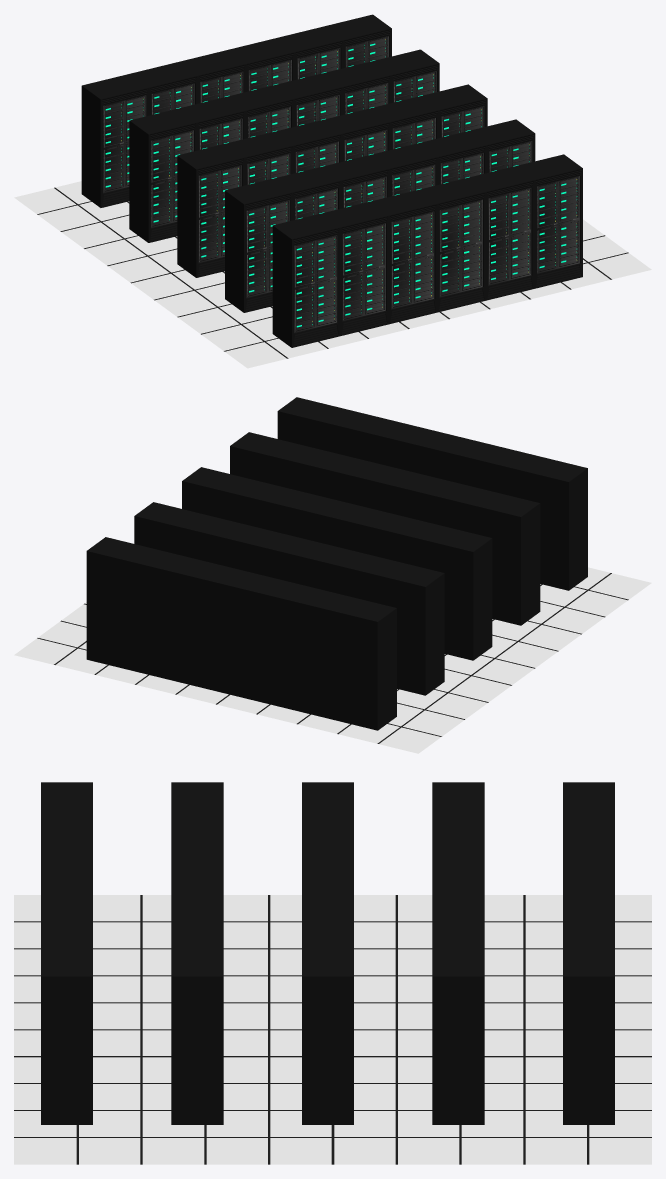
File: data_center_low-poly.glb
The picture shows the model from 3 angles, top to bottom: view 1: azimuth 30°, elevation 25°; view 2: azimuth 150°, elevation 25°; view 3: azimuth 270°, elevation 25°; orthographic projection. The views are drawn at different scales.
Visible parts, largest first — view 1: Cluster, Plane.001, Plane; view 2: Cluster, Plane.001, Plane; view 3: Plane.001, Cluster, Plane.
Part boxes in pixels (box(x1,y1,x2,y2)): Cluster: box(81, 14, 582, 347); Plane.001: box(14, 181, 651, 368); Plane: box(37, 187, 628, 358); Cluster: box(86, 397, 587, 730); Plane.001: box(14, 567, 651, 753); Plane: box(37, 573, 628, 743); Plane.001: box(14, 895, 651, 1164); Cluster: box(41, 782, 614, 1124); Plane: box(14, 895, 651, 1164).
Bounding box in the file's own units: 44 × 11.3 × 44.
Materials: 6 (1 with a texture image).
